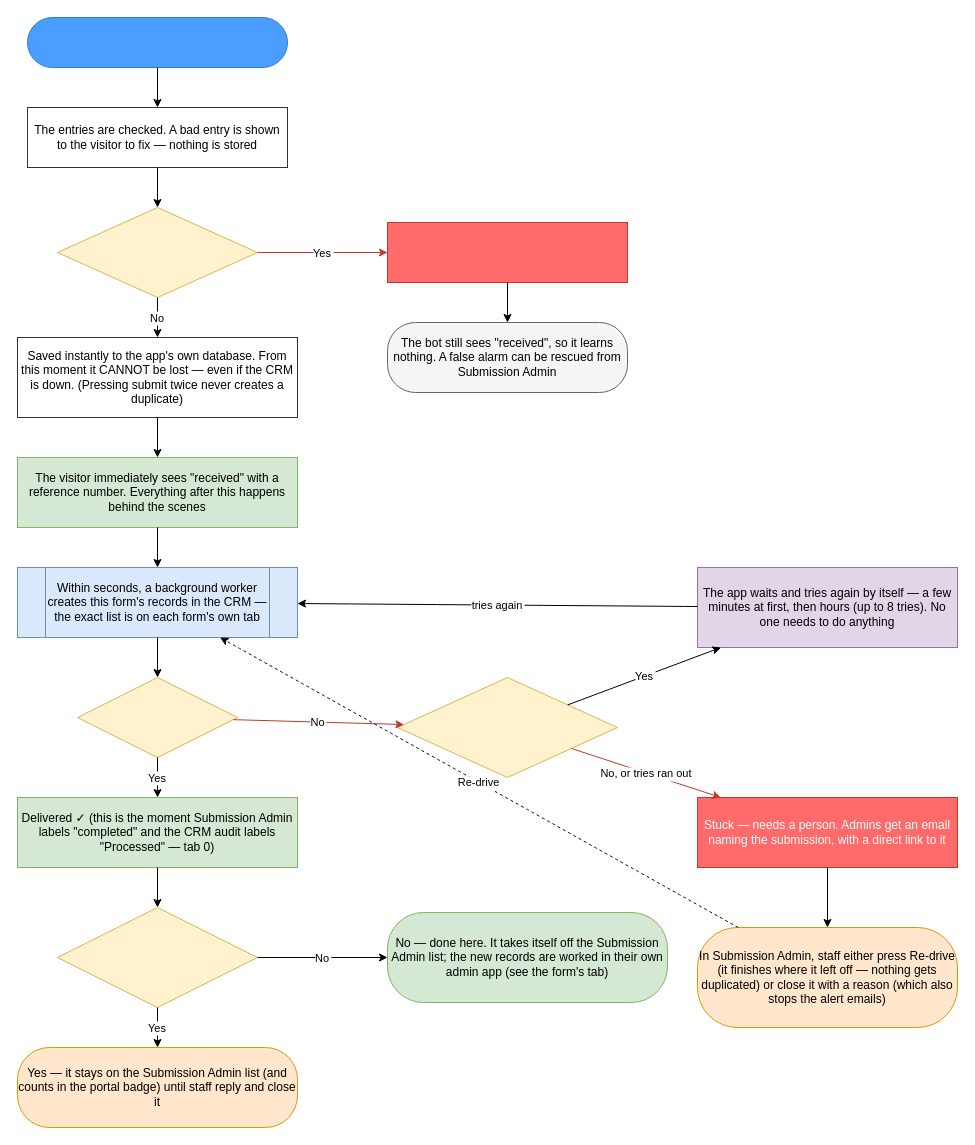
Image size: 975x1145. Some labels were removed from this diagram. Each missing label, with the box of its shape:
A visitor submits one of the five forms: (26, 16, 288, 68)
Did everything succeed?: (76, 676, 238, 758)
Does someone owe the sender a reply? (only info requests + info@ emails): (56, 906, 258, 1008)
Parked as suspected spam. The CRM is never touched: (386, 222, 628, 282)
Was it a bot? (a hidden trap field only bots fill in): (56, 206, 258, 298)
Was it just a temporary problem? (e.g. the CRM was briefly unreachable): (396, 676, 618, 778)
